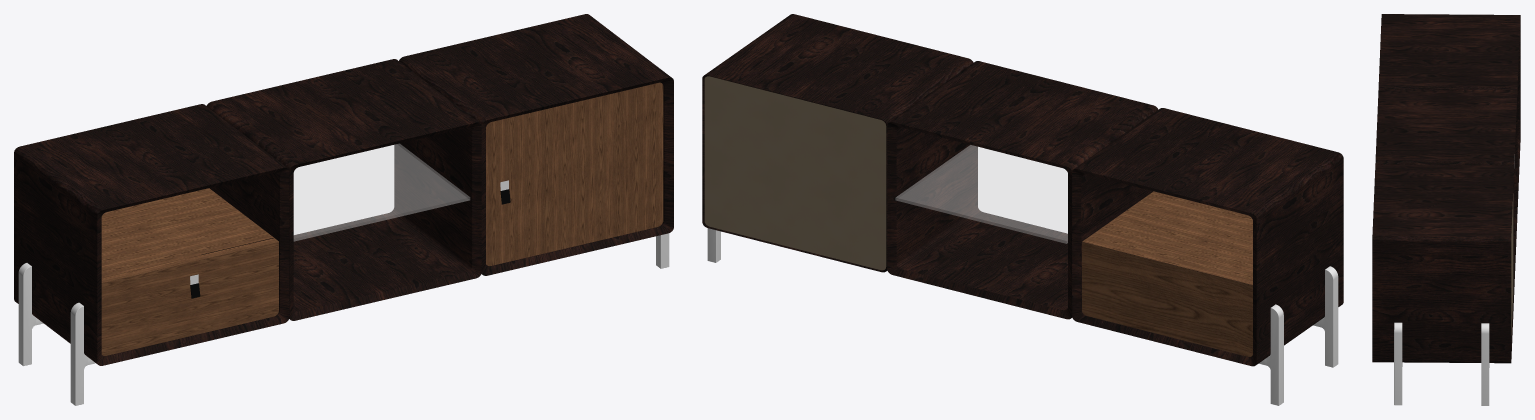
File: Mid_century_media_unit.glb
3 views of the same model, side by side, from view 1: azimuth 30°, elevation 25°; view 2: azimuth 150°, elevation 25°; view 3: azimuth 270°, elevation 25° (orthographic). The views are drawn at different scales.
Visible parts, largest first — view 1: Object_17, Object_13, Object_6, Object_4, Object_15; view 2: Object_17, Object_11, Object_6, Object_4, Object_15; view 3: Object_17, Object_15, Object_11.
Part boxes in pixels (x1,y1,x2,y2): Object_17: [14, 14, 673, 365]; Object_13: [486, 82, 663, 266]; Object_6: [101, 188, 278, 355]; Object_4: [294, 143, 469, 241]; Object_15: [18, 233, 669, 405]; Object_17: [702, 14, 1343, 366]; Object_11: [704, 76, 886, 270]; Object_6: [1082, 191, 1252, 356]; Object_4: [895, 145, 1067, 243]; Object_15: [707, 228, 1338, 405]; Object_17: [1372, 14, 1520, 363]; Object_15: [1394, 322, 1489, 405]; Object_11: [1511, 193, 1513, 334].
Size of the model in its own units: 1.82 by 0.5964 by 0.4886.
Materials: 6 (3 with a texture image).
